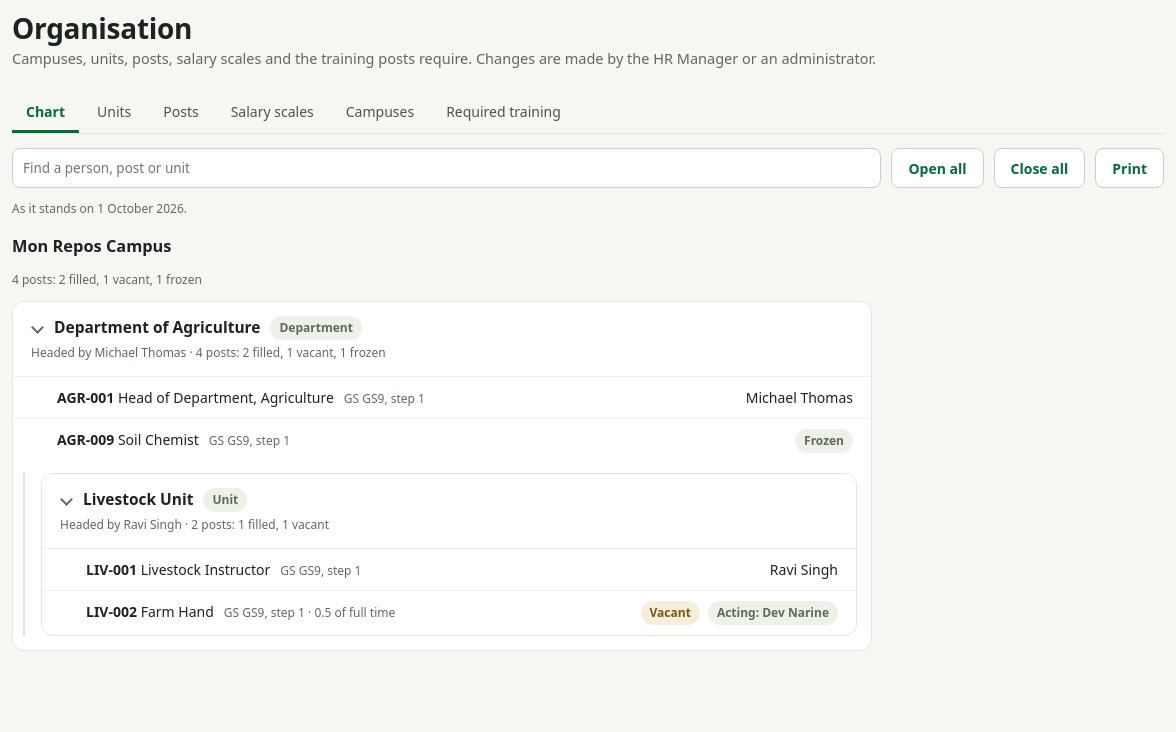
Scenario: organisation chart › finds a person, post or unit and marks it
This screenshot has width=1176, height=732.
Type "dev" into the search field labelled "Find a person, post or unit" at (447, 168), box [12,148,881,188]
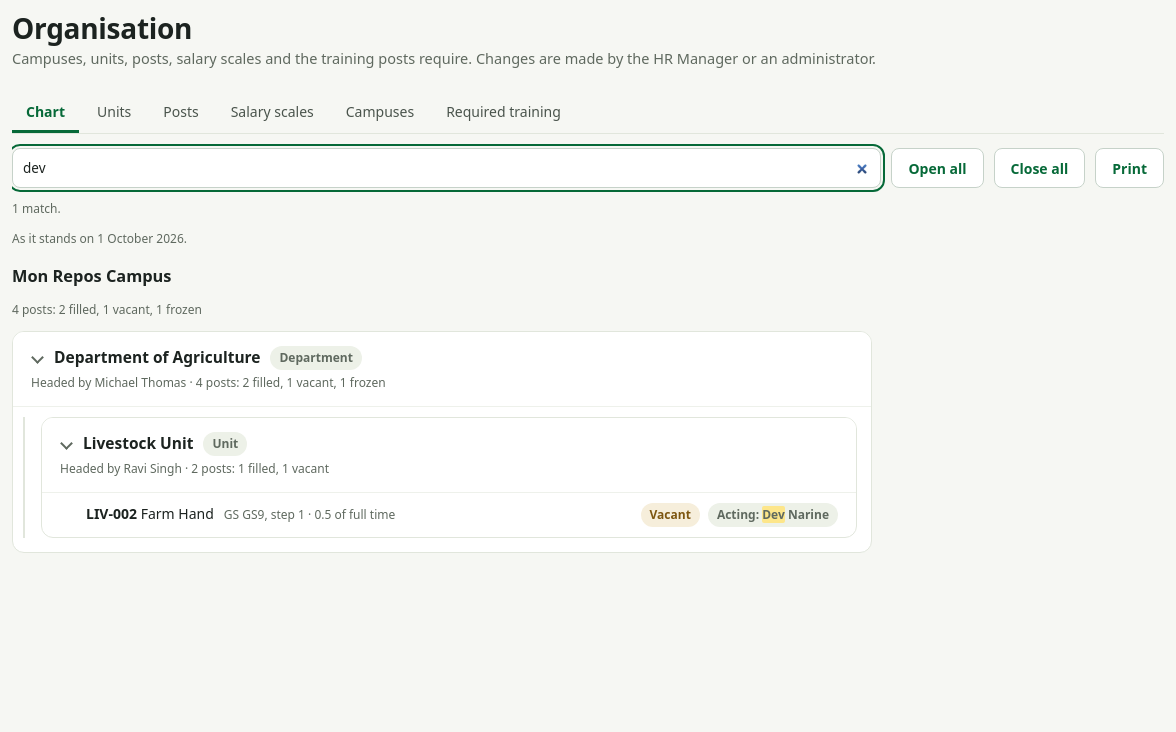
Check: the text "Dev" is shown, box [762,506,785,523]
Check: the message reads "1 match.", box [12,200,61,217]
Check: the text "Soil Chemist" is gone
Replace the text in the search field named "Find a person, post or unit" with "livestock" at (447, 168), box [12,148,881,188]
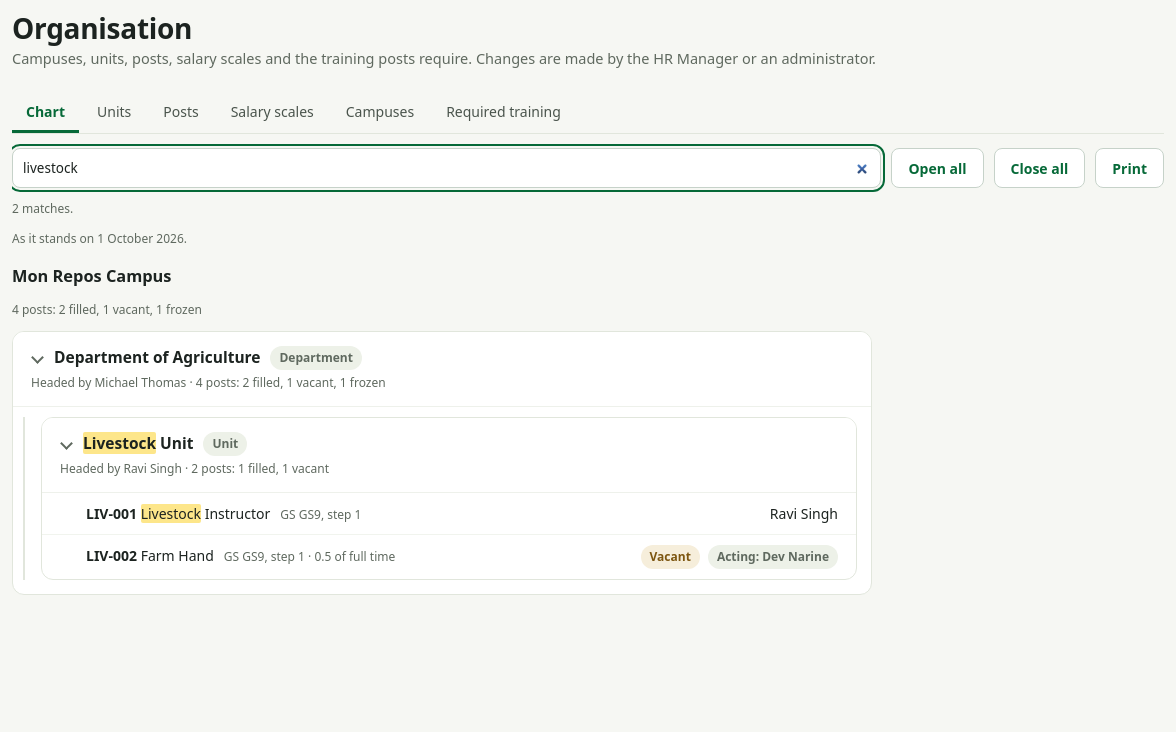
Check: the text "Farm Hand" is shown, box [141,546,214,565]
Check: the message reads "2 matches.", box [12,200,73,217]
Replace the text in the search field named "Find a person, post or unit" with "zzz" at (447, 168), box [12,148,881,188]
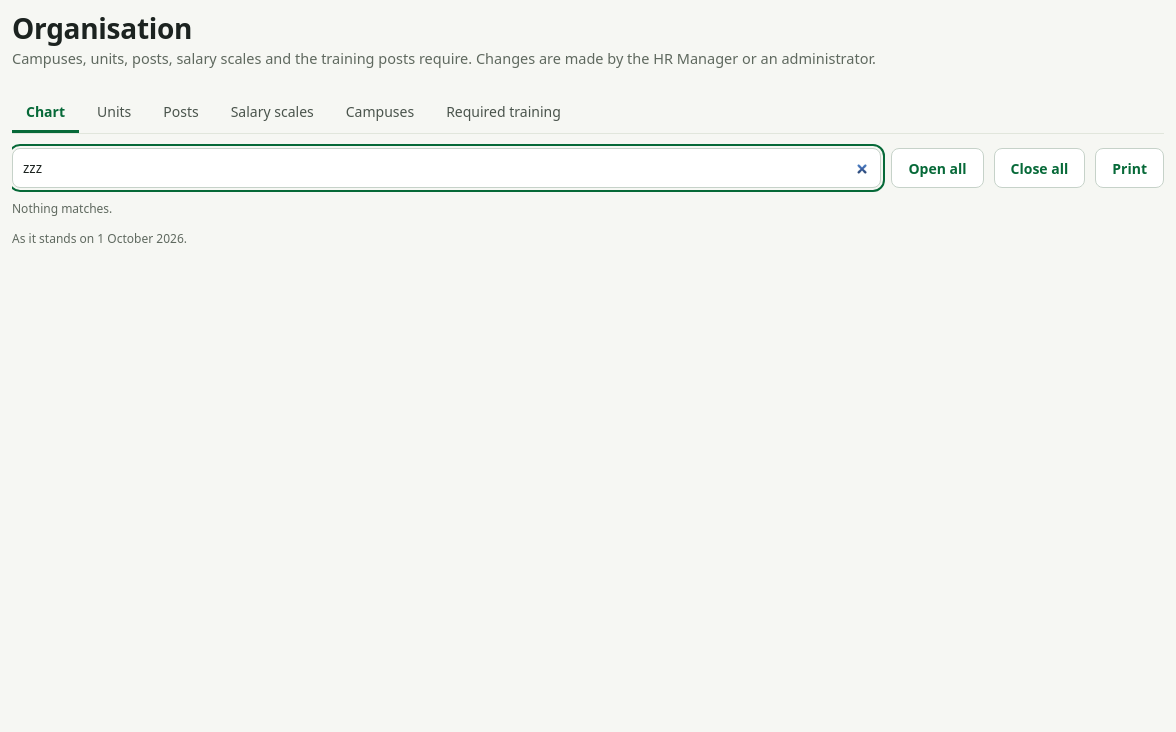
Check: the message reads "Nothing matches.", box [12,200,112,217]
